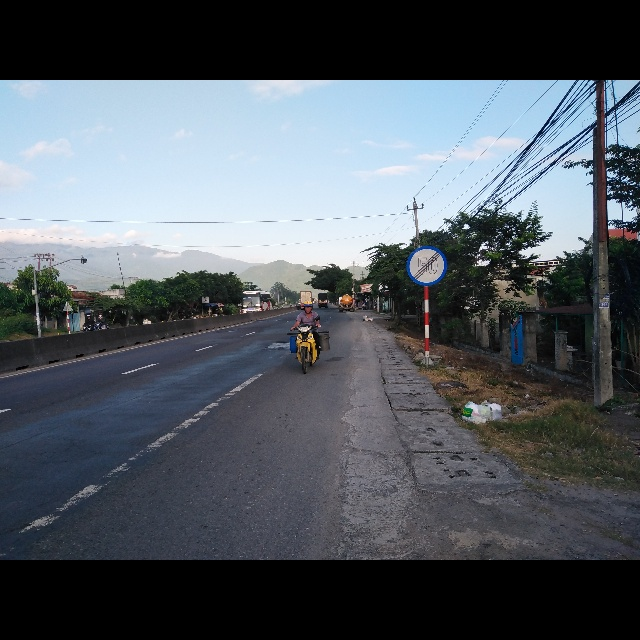Hết hạn chế tốc độ tối đa 50km/h: (405, 244, 450, 286)
